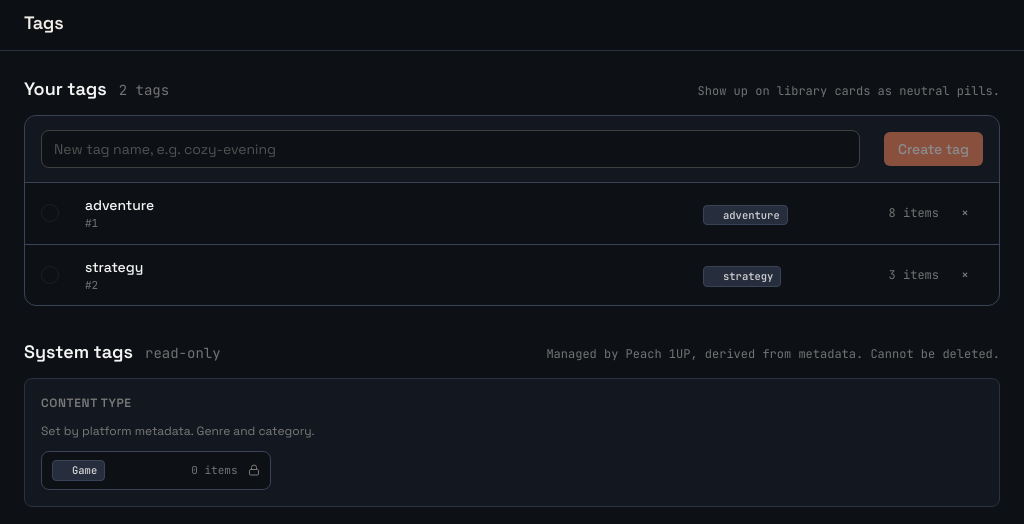
Tags acceptance › shows existing tags and enables Create Tag after a name is typed
This screenshot has width=1024, height=524.
Expected: the button "Create tag" is disabled, top-left (884, 132), bottom-right (983, 166)
Note: User types a new tag name
In the field with placeholder "New tag name, e.g. cozy-evening": (450, 149) top-left (41, 130), bottom-right (860, 168), type "shooter"
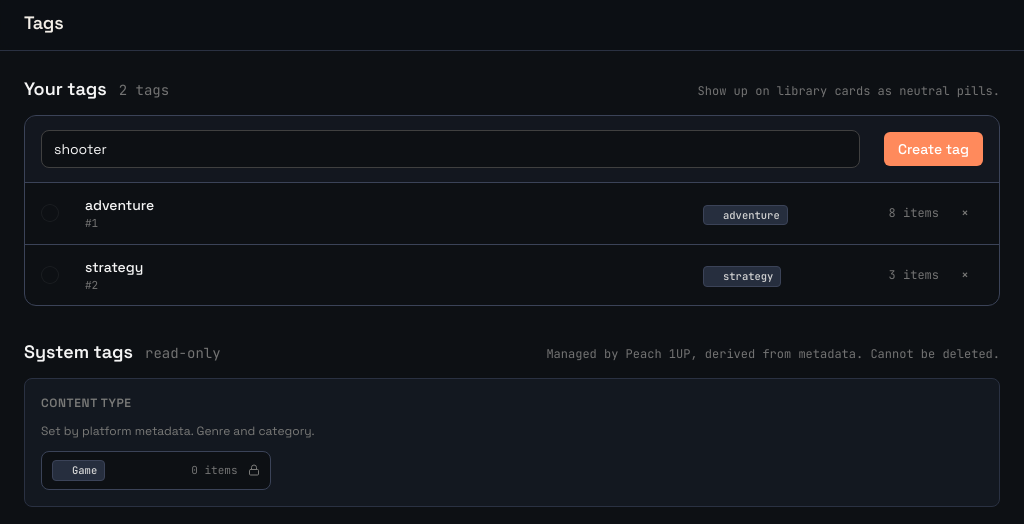
Result: the button "Create tag" is enabled at top-left (884, 132), bottom-right (983, 166)
